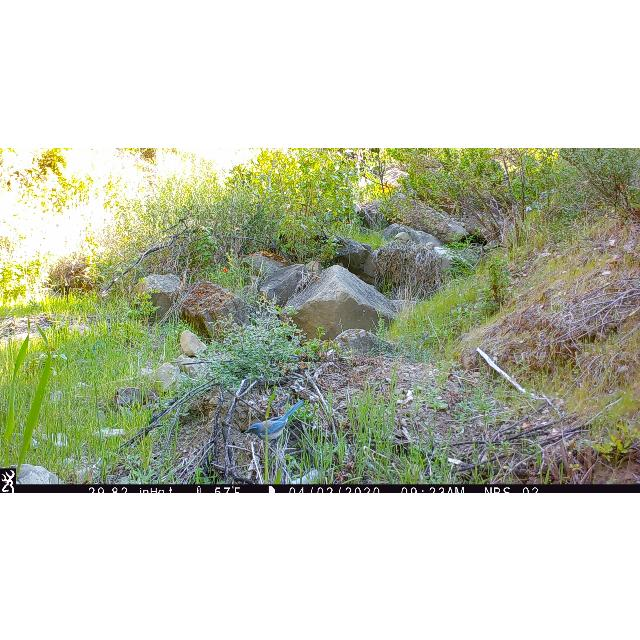animals: (245, 397, 308, 443)
